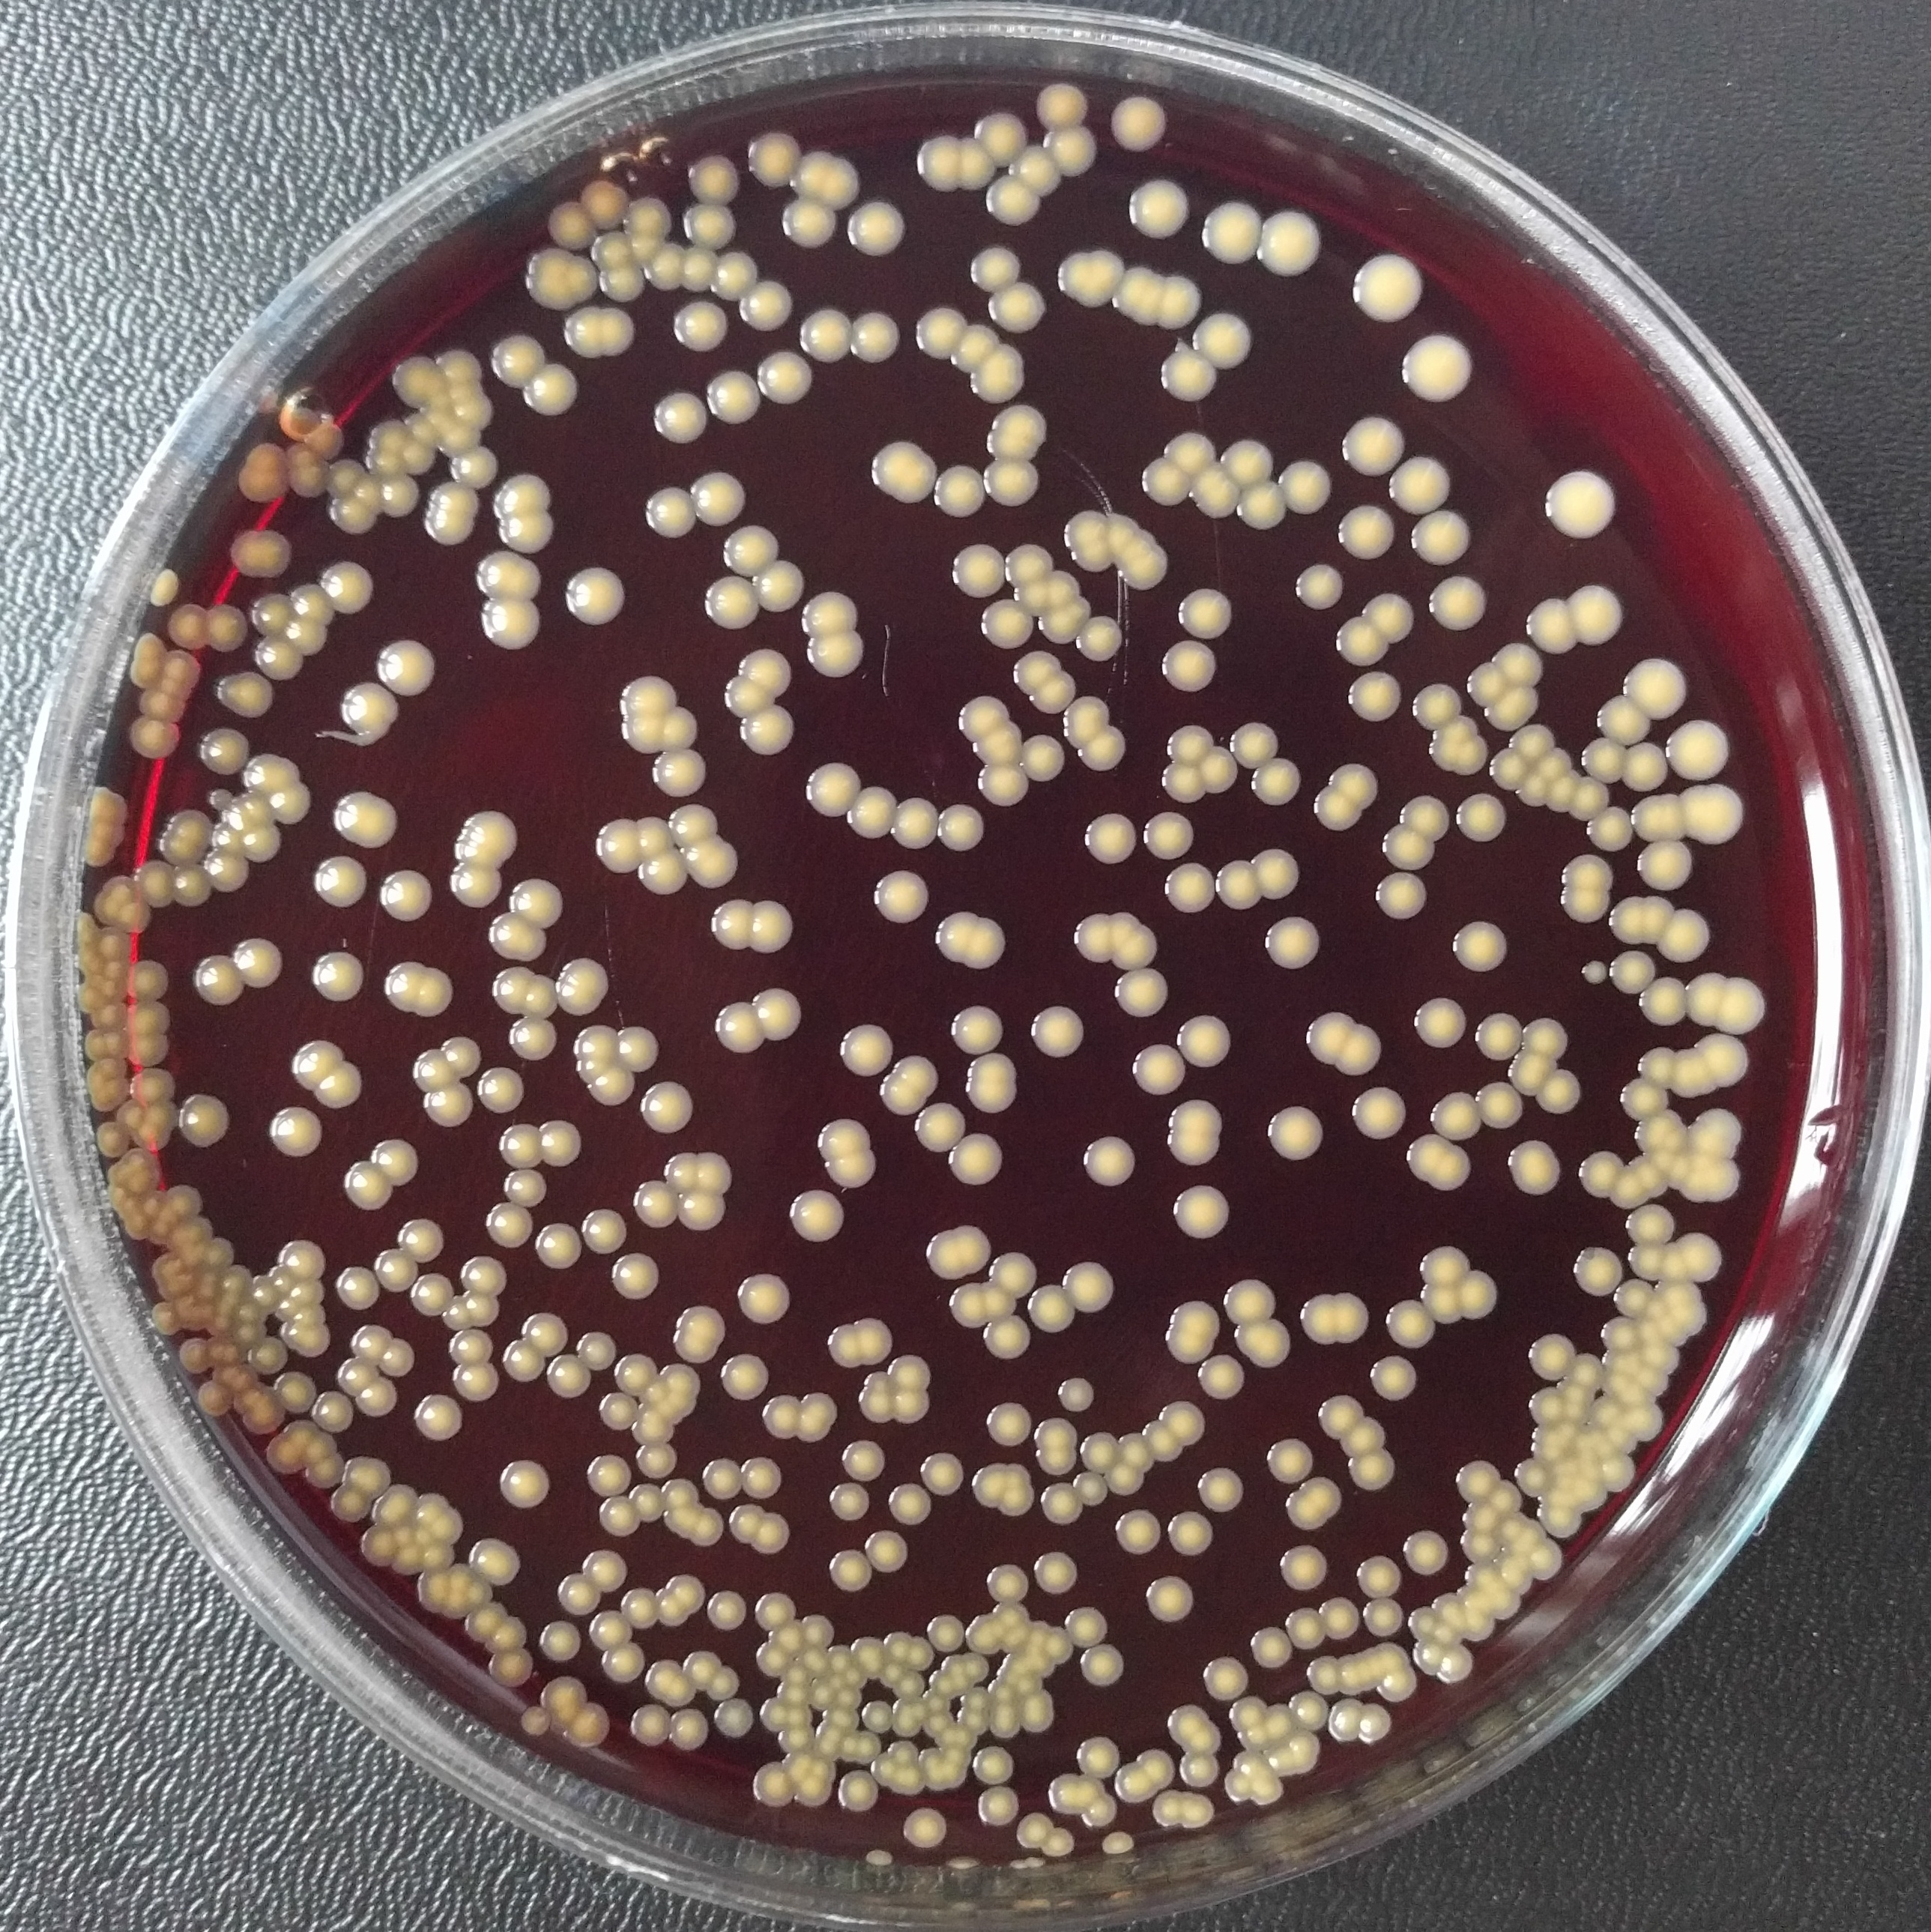sp21: (1349, 248, 1425, 326), (1542, 469, 1620, 541), (1401, 331, 1473, 403), (331, 784, 403, 851), (1680, 778, 1747, 849), (1257, 207, 1319, 283), (1666, 717, 1733, 784), (523, 246, 594, 310), (1125, 177, 1190, 241), (872, 439, 935, 504), (1340, 412, 1406, 476), (1622, 656, 1689, 718), (801, 759, 861, 828), (476, 598, 545, 658), (340, 679, 400, 748), (1155, 340, 1218, 403), (1190, 311, 1256, 373), (1388, 453, 1455, 513), (1204, 196, 1261, 267), (1567, 580, 1623, 651), (1027, 1000, 1089, 1063), (1408, 510, 1477, 566), (562, 568, 628, 626), (373, 639, 439, 697), (1167, 1184, 1234, 1240), (847, 198, 911, 257), (1425, 575, 1489, 633), (424, 481, 481, 547), (1277, 458, 1332, 525), (474, 548, 545, 600), (1109, 92, 1169, 152), (872, 869, 930, 931), (490, 906, 552, 964), (1248, 754, 1301, 821), (1158, 640, 1218, 699), (1523, 596, 1581, 656), (787, 1187, 845, 1247), (315, 559, 373, 619), (732, 706, 794, 763), (453, 810, 516, 865), (948, 540, 1006, 598), (734, 1270, 792, 1329), (702, 368, 762, 425), (486, 331, 543, 391), (1079, 810, 1139, 867), (734, 646, 790, 706), (387, 350, 447, 407), (981, 458, 1045, 511), (557, 955, 610, 1019), (1268, 1104, 1324, 1162), (311, 950, 368, 1008), (191, 952, 248, 1010), (218, 669, 278, 724), (1038, 124, 1100, 177), (1261, 916, 1323, 970), (230, 527, 292, 580), (179, 1090, 232, 1152), (1006, 142, 1063, 198), (1374, 869, 1431, 925), (983, 175, 1042, 230), (654, 387, 709, 446), (693, 471, 748, 529), (1337, 504, 1395, 559), (1450, 920, 1508, 975), (309, 853, 364, 911), (1346, 672, 1406, 725), (684, 842, 744, 895), (988, 283, 1052, 333), (523, 363, 580, 418), (1351, 1085, 1406, 1141), (836, 1023, 891, 1079), (1061, 1260, 1116, 1316), (1698, 1035, 1752, 1092), (884, 798, 941, 853), (269, 1104, 324, 1161), (638, 1081, 693, 1138), (1178, 587, 1236, 640), (1363, 589, 1416, 648), (1178, 1010, 1231, 1069), (1080, 1134, 1139, 1187), (539, 1672, 585, 1739), (675, 297, 727, 357), (948, 1136, 1008, 1187), (506, 874, 566, 925), (1330, 617, 1392, 667), (753, 987, 803, 1049), (492, 469, 555, 517), (759, 352, 813, 407), (702, 575, 757, 630), (978, 596, 1033, 651), (1660, 908, 1715, 962), (737, 280, 794, 333), (1229, 718, 1282, 775), (1383, 1299, 1439, 1352), (843, 784, 897, 840), (421, 1079, 477, 1132), (744, 127, 796, 186), (1717, 975, 1768, 1033), (721, 524, 782, 573), (1301, 1008, 1351, 1069), (1233, 1320, 1293, 1369), (803, 635, 865, 683), (232, 934, 279, 996), (492, 513, 564, 554), (782, 198, 836, 251), (798, 310, 851, 364), (914, 304, 967, 359), (545, 198, 598, 253), (1397, 789, 1450, 844), (713, 1001, 766, 1056), (644, 485, 695, 541), (1114, 968, 1171, 1019), (1128, 1047, 1185, 1099), (1508, 1141, 1560, 1198), (1155, 274, 1204, 333), (649, 747, 707, 796), (1591, 695, 1652, 743), (1484, 686, 1546, 732), (1160, 863, 1213, 916), (288, 1037, 341, 1090), (1036, 80, 1091, 131), (686, 150, 741, 202), (1137, 456, 1192, 508), (1413, 994, 1464, 1049), (1570, 1244, 1622, 1299), (955, 694, 1010, 745), (380, 869, 431, 924), (1277, 1541, 1332, 1592), (1059, 694, 1109, 750), (1427, 1090, 1484, 1139), (1367, 1355, 1423, 1405), (196, 727, 253, 777), (851, 310, 898, 368), (1192, 465, 1240, 524), (1381, 824, 1439, 872), (594, 814, 640, 874), (1256, 847, 1300, 909), (934, 465, 985, 518), (753, 559, 805, 612), (1409, 681, 1461, 734), (1142, 809, 1194, 862), (916, 1102, 967, 1155), (469, 1536, 520, 1589), (976, 110, 1026, 165), (417, 1392, 467, 1447), (1118, 545, 1174, 593), (1491, 640, 1547, 688), (748, 897, 794, 955), (916, 134, 960, 195), (1070, 908, 1114, 968), (1197, 1350, 1248, 1401), (1326, 757, 1378, 809), (1637, 978, 1687, 1031), (366, 1138, 419, 1187), (500, 1461, 553, 1511), (1639, 842, 1694, 890), (951, 1005, 1006, 1053), (1224, 1277, 1280, 1323), (1475, 1010, 1519, 1069), (939, 800, 983, 858), (617, 672, 677, 715), (1337, 1024, 1386, 1076), (474, 1067, 525, 1116), (965, 246, 1019, 294), (1312, 786, 1365, 833), (1675, 1049, 1722, 1102), (255, 635, 308, 683), (311, 1063, 364, 1111), (564, 1700, 612, 1753), (633, 1177, 679, 1231), (1165, 1129, 1227, 1169), (801, 593, 858, 637), (921, 1226, 965, 1283), (721, 674, 778, 718), (1218, 439, 1277, 481), (964, 915, 1006, 973), (815, 1118, 879, 1157), (1296, 561, 1346, 610), (610, 1251, 660, 1300), (865, 1525, 914, 1575), (1144, 1575, 1194, 1624), (711, 249, 759, 301), (1607, 952, 1659, 1000), (1475, 1083, 1526, 1131), (983, 1315, 1034, 1362), (449, 860, 500, 908), (345, 1161, 393, 1212), (721, 1353, 769, 1405), (394, 1215, 446, 1263), (1155, 1398, 1206, 1445), (1194, 1463, 1245, 1511), (964, 725, 1024, 766), (1630, 794, 1683, 840), (164, 602, 210, 655), (967, 368, 1033, 405), (988, 402, 1054, 439), (884, 1054, 939, 1099), (536, 1219, 580, 1274), (1461, 1270, 1500, 1332), (1160, 430, 1217, 472), (1685, 971, 1726, 1030), (1045, 1771, 1103, 1812), (1116, 260, 1153, 324), (960, 340, 1024, 377), (950, 326, 997, 375), (585, 177, 633, 226), (1459, 794, 1507, 844), (416, 962, 453, 1026), (370, 1246, 419, 1293), (1524, 1330, 1572, 1380), (640, 241, 686, 292), (506, 1016, 557, 1062), (987, 1399, 1033, 1451), (562, 306, 607, 359), (1558, 851, 1618, 890), (1556, 888, 1616, 927), (384, 955, 423, 1016), (1218, 856, 1261, 911), (539, 1116, 582, 1171), (1050, 1373, 1105, 1415), (1577, 1148, 1618, 1205), (828, 1546, 875, 1594), (1264, 1437, 1312, 1484), (1238, 483, 1287, 529), (1019, 736, 1065, 786), (483, 1201, 532, 1247), (884, 1483, 934, 1529), (920, 1449, 965, 1499), (1298, 1293, 1337, 1352), (1622, 741, 1666, 793), (990, 1251, 1042, 1295), (668, 801, 720, 846), (499, 1166, 550, 1210), (237, 754, 301, 789), (127, 717, 182, 757), (1607, 1161, 1646, 1217), (1335, 1290, 1369, 1355), (1116, 1509, 1164, 1555), (960, 131, 996, 193), (684, 202, 734, 246), (1004, 541, 1054, 586), (1077, 722, 1126, 766), (1034, 1548, 1079, 1598), (1401, 1530, 1450, 1575), (877, 1076, 928, 1118), (1682, 1231, 1724, 1283), (1416, 1247, 1475, 1284), (442, 449, 500, 487), (1008, 651, 1061, 692), (978, 764, 1031, 805), (233, 464, 286, 504), (677, 1191, 730, 1231), (134, 858, 173, 913), (568, 1021, 622, 1060), (1077, 616, 1123, 662), (1586, 805, 1632, 851), (1416, 1281, 1462, 1327), (522, 1309, 568, 1355), (1167, 1511, 1213, 1557), (1284, 1606, 1330, 1652), (1538, 1067, 1583, 1115), (292, 580, 336, 628), (582, 1207, 626, 1254), (598, 1491, 642, 1539), (373, 1479, 421, 1523), (1066, 1605, 1111, 1652), (1248, 1628, 1296, 1672), (1141, 1417, 1185, 1465), (1508, 1054, 1558, 1097), (1406, 1132, 1448, 1182), (965, 1079, 1022, 1116), (1620, 1076, 1669, 1118), (638, 855, 688, 897), (334, 1267, 384, 1309), (462, 1596, 504, 1645), (1164, 724, 1215, 764), (826, 1152, 877, 1192), (1172, 1297, 1224, 1338), (677, 1300, 729, 1341), (978, 433, 1047, 464), (493, 966, 532, 1019), (1347, 1456, 1401, 1495), (824, 154, 861, 209), (1606, 892, 1643, 947), (764, 1394, 801, 1449), (1116, 922, 1160, 968), (1027, 1288, 1073, 1332), (283, 616, 327, 662), (840, 1438, 886, 1483), (836, 1767, 881, 1813), (1583, 736, 1625, 784), (504, 1339, 546, 1387), (412, 1272, 454, 1320), (1080, 1645, 1128, 1688), (580, 1550, 628, 1592), (553, 1575, 601, 1617), (750, 1762, 792, 1810), (1201, 1658, 1248, 1700), (329, 499, 378, 540), (934, 909, 973, 961), (345, 1453, 396, 1491), (1623, 1207, 1675, 1246), (603, 308, 640, 361), (1164, 1099, 1225, 1131), (585, 1069, 638, 1106), (1333, 1417, 1392, 1451), (1466, 660, 1510, 704), (1568, 777, 1613, 821), (500, 1123, 545, 1168), (828, 1481, 872, 1525), (628, 195, 674, 237), (1510, 722, 1556, 764), (1634, 1046, 1676, 1092), (640, 1652, 683, 1698), (1355, 1555, 1401, 1598), (412, 1044, 453, 1092), (550, 1353, 591, 1401), (453, 1362, 500, 1403), (900, 1808, 948, 1849), (798, 147, 833, 202), (163, 807, 212, 846), (584, 1456, 633, 1495), (460, 1256, 509, 1295), (1282, 1730, 1321, 1780), (1705, 1155, 1742, 1207), (309, 1391, 352, 1435), (1317, 1596, 1362, 1638), (1031, 672, 1077, 713), (1523, 1016, 1568, 1056), (1432, 1145, 1473, 1191), (1632, 1152, 1673, 1198), (207, 605, 248, 651), (271, 787, 317, 828), (610, 1352, 656, 1392), (702, 1458, 743, 1504), (278, 1235, 324, 1276), (983, 1562, 1029, 1603), (599, 1644, 645, 1684), (1199, 745, 1238, 793), (619, 1024, 658, 1072), (886, 1352, 934, 1391), (711, 899, 748, 948), (826, 1322, 863, 1371), (1056, 248, 1091, 299), (1042, 1483, 1084, 1525), (242, 1391, 283, 1435), (617, 715, 661, 755), (599, 1389, 640, 1433), (978, 1785, 1019, 1829), (1452, 1458, 1496, 1499), (983, 1276, 1022, 1322), (660, 706, 698, 752), (439, 419, 485, 458), (380, 474, 419, 520), (674, 1330, 720, 1369), (336, 1353, 382, 1392), (743, 1454, 782, 1500), (265, 1433, 304, 1479), (631, 1706, 670, 1752), (430, 349, 483, 382), (950, 1281, 985, 1330), (1316, 1396, 1365, 1431), (1685, 1127, 1740, 1159), (161, 649, 203, 690), (440, 1035, 481, 1077), (575, 1330, 615, 1373), (541, 1621, 582, 1663), (483, 1614, 523, 1656), (1077, 1736, 1119, 1776), (152, 1251, 191, 1295), (1482, 1585, 1526, 1624), (598, 265, 642, 304), (1167, 1329, 1211, 1368), (357, 1378, 401, 1417), (626, 1483, 665, 1527), (709, 1697, 753, 1736), (1282, 1491, 1326, 1530), (1455, 1608, 1501, 1645), (637, 809, 674, 855), (633, 1442, 679, 1479), (670, 1709, 707, 1755), (964, 1051, 1020, 1081), (962, 1221, 994, 1274), (755, 1511, 790, 1559), (622, 1583, 658, 1631), (272, 1373, 313, 1414), (1303, 1474, 1344, 1514), (1524, 1424, 1567, 1463), (129, 957, 168, 1000), (660, 1353, 702, 1392), (707, 1589, 746, 1631), (1376, 1668, 1420, 1706), (1546, 770, 1583, 814), (242, 824, 286, 862), (1179, 1721, 1224, 1759), (1622, 1403, 1666, 1440), (140, 690, 191, 722), (207, 856, 253, 892), (131, 1067, 177, 1102), (589, 1610, 635, 1645), (488, 1652, 534, 1688), (1164, 1704, 1210, 1739), (1540, 1507, 1586, 1543), (1091, 249, 1125, 297), (94, 784, 133, 824), (1043, 570, 1082, 610), (1164, 761, 1202, 801), (173, 867, 212, 908), (667, 1575, 707, 1614), (974, 1744, 1013, 1785), (1291, 1691, 1330, 1732), (1118, 1431, 1158, 1470), (1630, 1240, 1671, 1279), (1636, 1343, 1685, 1375), (681, 1647, 718, 1690), (251, 589, 286, 633), (157, 832, 202, 867), (348, 1322, 393, 1357), (1326, 1700, 1362, 1744), (684, 244, 718, 290), (1065, 506, 1111, 540), (1696, 1109, 1744, 1141), (127, 1033, 175, 1065), (859, 1315, 891, 1362), (449, 1330, 497, 1362), (462, 1290, 500, 1329), (1080, 1433, 1119, 1472), (325, 458, 363, 499), (1116, 1764, 1153, 1805), (196, 1378, 232, 1421), (1645, 892, 1673, 945), (1489, 747, 1524, 789), (332, 1483, 368, 1525), (359, 1525, 394, 1568), (973, 1461, 1003, 1511), (665, 1150, 698, 1194), (1033, 1417, 1077, 1451), (127, 1000, 173, 1031), (730, 1504, 762, 1550), (895, 1389, 932, 1428), (382, 1339, 419, 1378), (927, 1614, 964, 1652), (1137, 1748, 1174, 1787), (854, 1391, 895, 1426), (753, 1594, 794, 1629), (1528, 1539, 1563, 1580), (168, 1215, 216, 1246), (1179, 1755, 1222, 1789), (1362, 1702, 1395, 1744), (523, 973, 555, 1017), (628, 1417, 677, 1445), (1040, 610, 1077, 648), (1107, 510, 1144, 547), (308, 1449, 345, 1486), (665, 1506, 702, 1543), (1227, 1693, 1264, 1730), (1107, 1461, 1144, 1499), (1443, 1651, 1480, 1688), (516, 1704, 552, 1743), (1630, 1118, 1666, 1157), (249, 1338, 288, 1373), (707, 1665, 743, 1704), (1510, 1518, 1544, 1559), (1070, 540, 1111, 573), (698, 1150, 732, 1191), (1181, 1792, 1215, 1833), (1365, 1601, 1406, 1635), (591, 232, 633, 264), (364, 446, 407, 478), (690, 1507, 721, 1550), (417, 1571, 449, 1614), (854, 1633, 882, 1681), (891, 1697, 923, 1739), (1024, 1691, 1056, 1734), (149, 566, 179, 610), (1666, 1304, 1710, 1334), (964, 1619, 1001, 1654), (416, 1486, 451, 1523), (1073, 1470, 1109, 1507), (1528, 1385, 1563, 1422), (1510, 1461, 1546, 1499), (292, 465, 331, 499), (127, 655, 166, 688), (660, 1476, 698, 1509), (1531, 745, 1572, 777), (179, 1338, 209, 1380), (1425, 715, 1480, 738), (172, 1182, 207, 1217), (1655, 1315, 1691, 1350), (1680, 1164, 1708, 1208), (449, 395, 493, 423), (1498, 1555, 1535, 1589), (428, 1506, 465, 1539), (757, 1640, 790, 1677), (1017, 1813, 1056, 1845), (1597, 1316, 1636, 1348), (1632, 1369, 1673, 1399), (762, 1617, 803, 1647), (1431, 1589, 1464, 1624), (1376, 1638, 1409, 1674), (407, 412, 442, 446), (1616, 1279, 1652, 1313), (97, 1118, 129, 1155), (1570, 1348, 1602, 1385), (1515, 775, 1547, 812), (120, 906, 157, 938), (295, 1327, 332, 1359), (419, 1539, 456, 1571), (1305, 1658, 1337, 1695), (571, 1058, 622, 1081), (80, 840, 118, 870), (801, 1389, 840, 1419), (1459, 1530, 1500, 1559), (1602, 1458, 1636, 1491), (302, 1431, 336, 1465), (803, 1612, 836, 1645), (1572, 1481, 1607, 1513), (1577, 955, 1609, 991), (796, 1778, 831, 1810), (1261, 1704, 1287, 1746), (1034, 1451, 1077, 1477), (1487, 1481, 1523, 1513), (1660, 1281, 1703, 1307), (1461, 1500, 1496, 1532), (992, 1702, 1022, 1739), (1042, 1826, 1079, 1856), (1151, 1790, 1179, 1829), (1116, 902, 1139, 950), (286, 1279, 327, 1306), (661, 1591, 688, 1631), (1013, 586, 1047, 617), (985, 1677, 1020, 1707), (407, 442, 437, 478), (1339, 1652, 1360, 1702), (242, 441, 286, 464), (1425, 740, 1457, 771), (1082, 1798, 1114, 1829), (1459, 741, 1489, 775), (373, 418, 407, 448), (240, 793, 274, 823), (210, 823, 244, 853), (143, 1099, 177, 1129), (1003, 1488, 1036, 1518), (1406, 1606, 1439, 1637), (88, 821, 129, 846), (661, 1392, 697, 1421), (442, 1292, 470, 1327), (1365, 1640, 1388, 1683), (233, 1382, 265, 1412), (893, 1766, 923, 1798), (1252, 1778, 1284, 1808), (152, 1302, 179, 1338), (136, 1125, 172, 1152), (1229, 1752, 1270, 1775), (136, 633, 173, 658), (868, 1752, 893, 1789), (775, 1729, 812, 1753), (1047, 1629, 1072, 1667), (1496, 1514, 1524, 1546), (350, 481, 378, 513), (226, 1263, 253, 1297), (223, 800, 249, 833), (1220, 1771, 1247, 1805), (1416, 1642, 1443, 1675), (1547, 1490, 1583, 1514), (1560, 1378, 1595, 1403), (884, 1626, 909, 1661), (762, 1697, 787, 1732), (670, 1677, 698, 1707), (1464, 1562, 1496, 1589), (1020, 1649, 1052, 1675), (992, 1601, 1024, 1628), (1107, 1826, 1141, 1851), (801, 1417, 835, 1442), (776, 1679, 810, 1704), (1602, 1348, 1641, 1369), (288, 1306, 331, 1325), (1356, 1649, 1372, 1700), (941, 1849, 976, 1872), (859, 1730, 882, 1766), (928, 1668, 957, 1697), (393, 1545, 421, 1573), (863, 1702, 891, 1730), (925, 1709, 955, 1736), (1017, 1672, 1047, 1698), (251, 1276, 278, 1306), (863, 1842, 895, 1867), (292, 442, 329, 464), (99, 878, 133, 901), (842, 1730, 865, 1764), (1664, 1246, 1687, 1279), (106, 1026, 127, 1062), (95, 1001, 124, 1028), (1560, 1398, 1586, 1426), (1268, 1748, 1293, 1778), (909, 1637, 934, 1667), (122, 1102, 145, 1134), (235, 1325, 267, 1348), (783, 1704, 815, 1727), (175, 1295, 196, 1329), (1077, 292, 1111, 313), (233, 1302, 267, 1323), (1664, 1125, 1691, 1152), (210, 1237, 235, 1265), (1611, 1431, 1639, 1456), (127, 1146, 157, 1169), (1618, 1389, 1657, 1407), (87, 1028, 108, 1060), (126, 1217, 150, 1244), (104, 1079, 131, 1104), (943, 1766, 967, 1792), (923, 1767, 948, 1794), (1434, 1621, 1457, 1649), (962, 1690, 990, 1713), (131, 1169, 161, 1191), (943, 1746, 973, 1767), (1602, 1373, 1632, 1394), (965, 1652, 987, 1683), (822, 1711, 861, 1727), (955, 1727, 980, 1752), (1003, 1628, 1027, 1652), (1595, 1401, 1618, 1428), (826, 1645, 849, 1672), (889, 1741, 916, 1764), (785, 1753, 812, 1776), (1639, 1318, 1660, 1346), (861, 1369, 889, 1391), (895, 1675, 923, 1697), (833, 1688, 861, 1709), (191, 1304, 214, 1329), (90, 1088, 113, 1113), (941, 1656, 965, 1679), (237, 1364, 258, 1391), (210, 1362, 237, 1384), (78, 984, 99, 1010), (210, 786, 232, 812), (1459, 1585, 1480, 1612), (1031, 1621, 1049, 1652), (94, 899, 120, 920), (1238, 1730, 1266, 1750), (1003, 1465, 1031, 1484), (182, 1244, 205, 1267), (810, 1683, 833, 1706), (210, 1316, 232, 1341), (106, 1162, 131, 1184), (101, 934, 122, 959), (920, 1746, 941, 1771), (1066, 598, 1091, 619), (152, 1221, 172, 1247), (106, 1184, 127, 1207), (1549, 1456, 1572, 1477), (1003, 1651, 1026, 1672), (820, 1718, 842, 1741), (391, 1525, 416, 1545), (207, 1339, 225, 1366), (810, 1759, 831, 1780), (101, 961, 124, 980), (932, 1729, 957, 1746), (923, 1695, 948, 1713), (87, 1065, 103, 1092), (120, 1196, 140, 1217), (104, 1060, 126, 1079), (225, 1341, 242, 1364), (960, 1714, 983, 1732), (1646, 1297, 1666, 1316), (143, 1196, 161, 1217), (103, 980, 120, 1001), (884, 1667, 902, 1688), (219, 1295, 233, 1320), (953, 1674, 973, 1691), (801, 1649, 822, 1665), (1597, 1444, 1614, 1461), (159, 1205, 175, 1224), (819, 1744, 840, 1759), (1558, 1421, 1576, 1437), (847, 1670, 865, 1686), (196, 1284, 216, 1299), (1553, 1479, 1574, 1491), (996, 1668, 1020, 1679), (1668, 1109, 1685, 1123), (200, 1270, 216, 1284)
